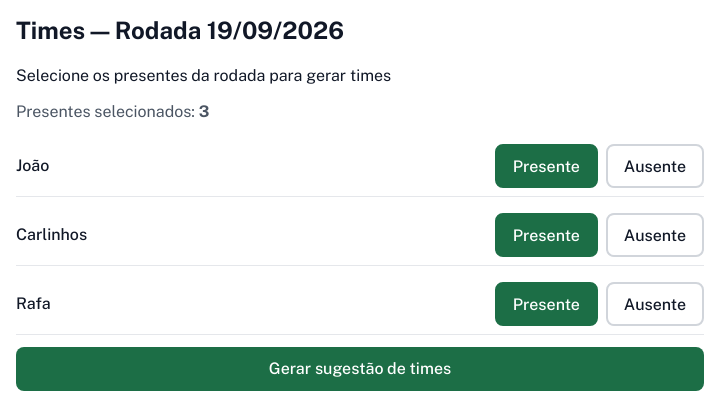
Scenario: MontagemTimesShell › conflito: mostra ConflictList (role=alert) com o contrato exato do ADR-010
The image size is (721, 408).
expect the heading "Times — Rodada 19/09/2026" is shown: met, box [16,16,344,44]
Step 1. Click the button "Gerar sugestão de times" → (360, 369), box [16,347,704,391]
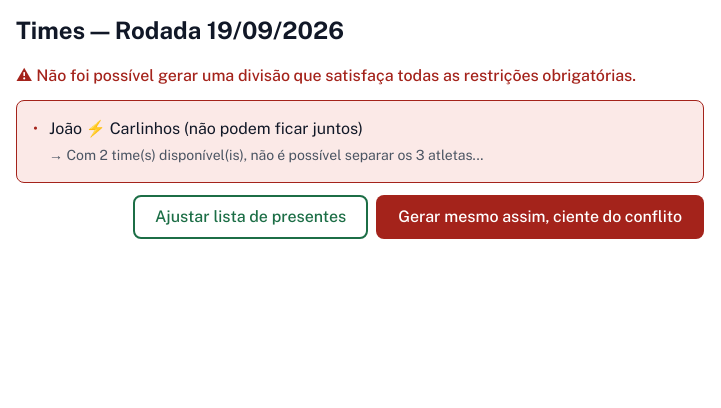
expect the button "Ajustar lista de presentes" is shown: met, box [133,195,368,239]
expect the button "Gerar mesmo assim, ciente do conflito" is shown: met, box [376,195,704,239]
